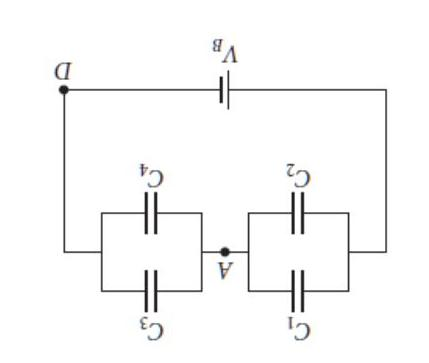Capacitor: (266, 191, 329, 234)
